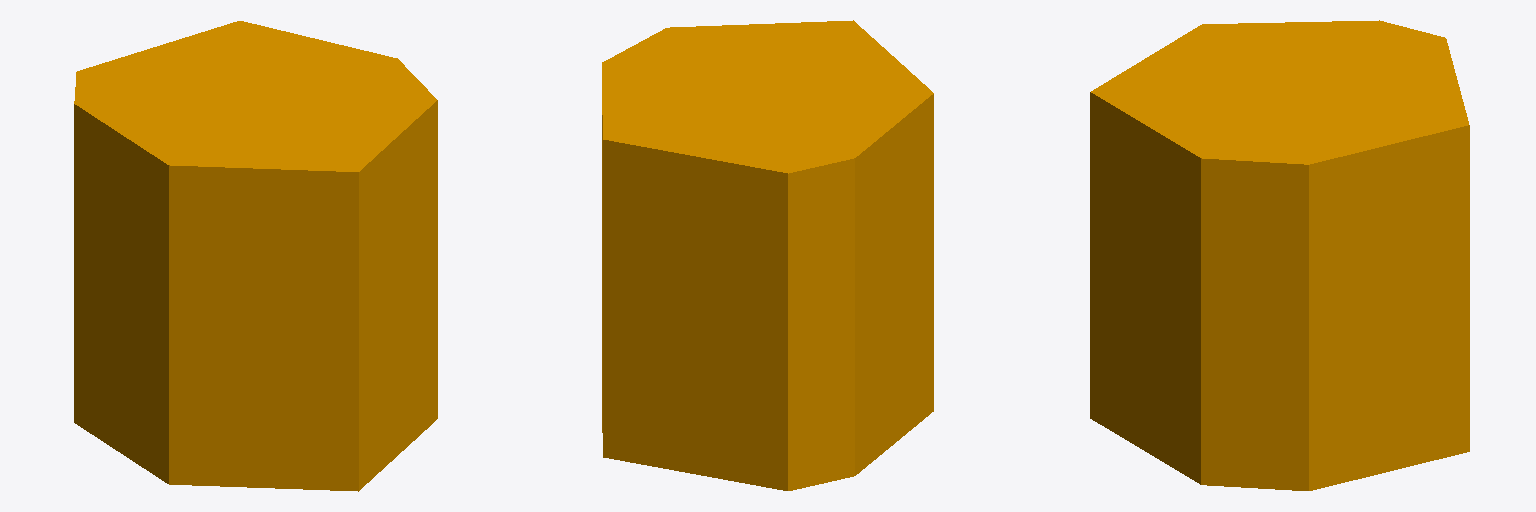
The robot description file, URDF, robot "object":
<?xml version="1.0"?>
<robot name="object">
  <link name="object">
    <visual>
      <origin xyz="0 0 0"/>
      <geometry>
        <mesh filename="meshes/generated/col_078.obj" scale="0.03 0.03 0.03"/>
      </geometry>
    </visual>
    <collision>
      <origin xyz="0 0 0"/>
      <geometry>
        <mesh filename="meshes/generated/col_078.obj" scale="0.03 0.03 0.03"/>
      </geometry>
    </collision>
    <inertial>
      <density value="1000.0"/>
    </inertial>
  </link>
</robot>

--- Render facts (derived) ---
Views: 3 orthographic renders of the robot side by side, from view 1: azimuth 30°, elevation 25°; view 2: azimuth 150°, elevation 25°; view 3: azimuth 270°, elevation 25°.
Model object with 1 links and 0 joints (none), rooted at object, posed all joints at 0.
Links seen in each view (by area): view 1: object; view 2: object; view 3: object.
Boxes of the visible links, x1,y1,x2,y2 form: object: [74, 21, 437, 491]; object: [602, 20, 933, 490]; object: [1090, 20, 1469, 490].
Bounding box of the posed robot: 0.0568 × 0.0631 × 0.06 m (x, y, z).
1 mesh visuals loaded from 1 distinct referenced files (1 OBJ).
